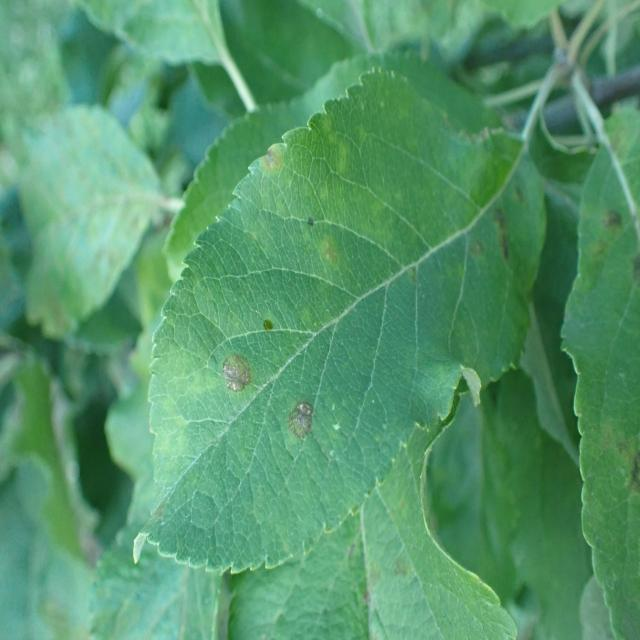scab: (256, 122, 427, 307), (591, 173, 640, 554), (453, 169, 532, 312), (337, 527, 427, 629), (214, 333, 269, 410), (288, 394, 313, 468)
